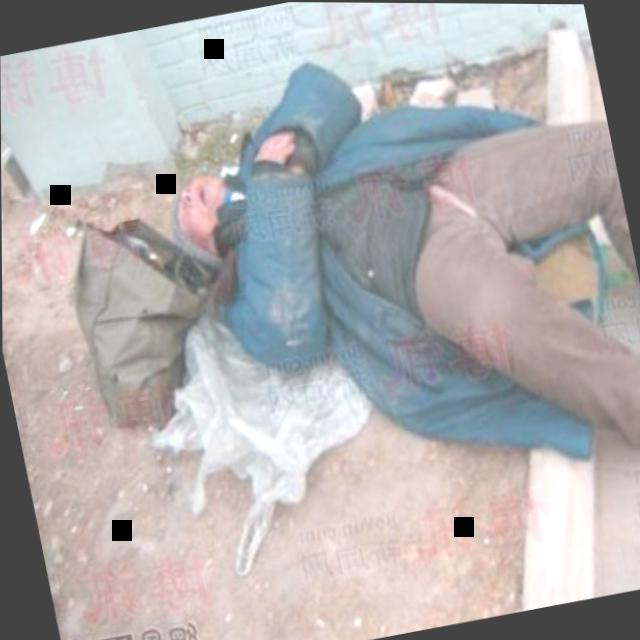Fall-Detected: (140, 1, 640, 582)
